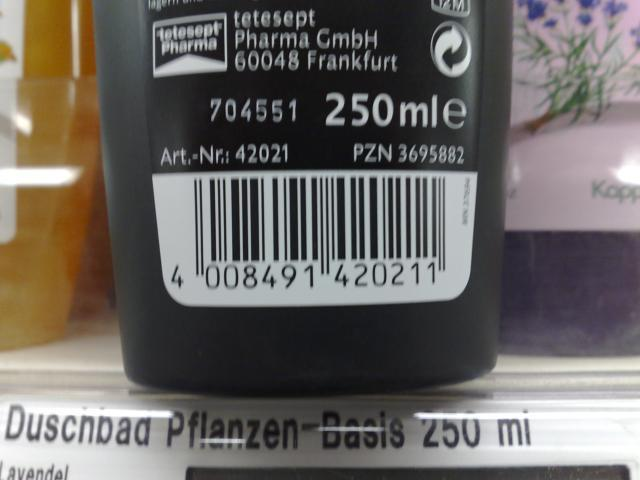Barcode: (152, 172, 462, 305)
